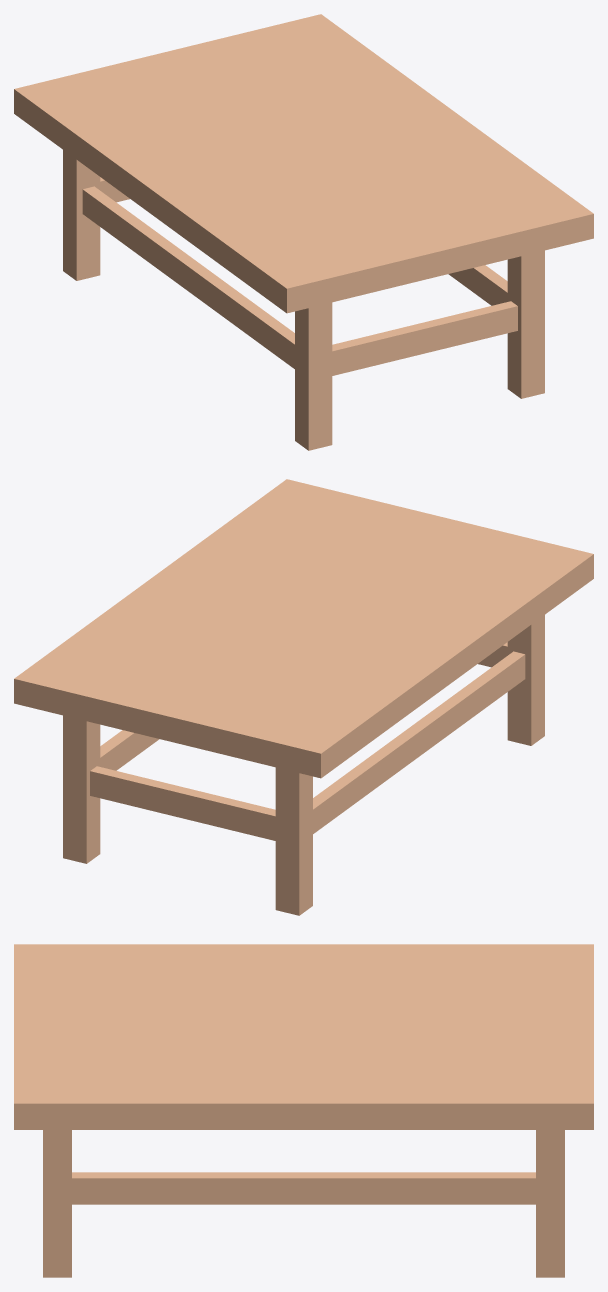
Rendered from stall.glb.
3 renders of one model, top to bottom at view 1: azimuth 30°, elevation 25°; view 2: azimuth 150°, elevation 25°; view 3: azimuth 270°, elevation 25°, orthographic. The views are drawn at different scales.
Visible parts, largest first — view 1: stall; view 2: stall; view 3: stall.
Part boxes in pixels (x1=…): stall: x1=14, y1=14, x2=593, y2=450; stall: x1=14, y1=479, x2=593, y2=915; stall: x1=14, y1=944, x2=593, y2=1277.
Bounding box in the file's own units: 0.65 × 0.3655 × 1.
